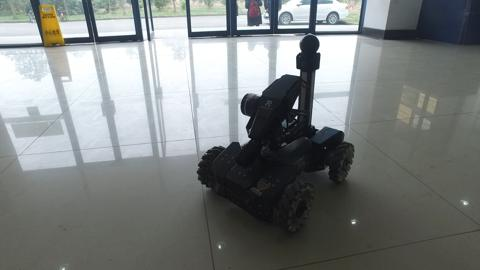car: (259, 1, 352, 25)
chariot: (193, 33, 357, 235)
